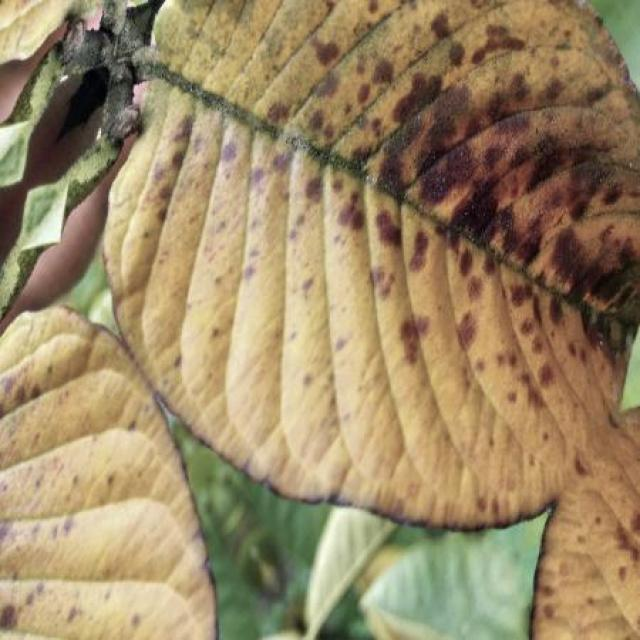Red Rust: (106, 0, 640, 569), (0, 308, 214, 639)
